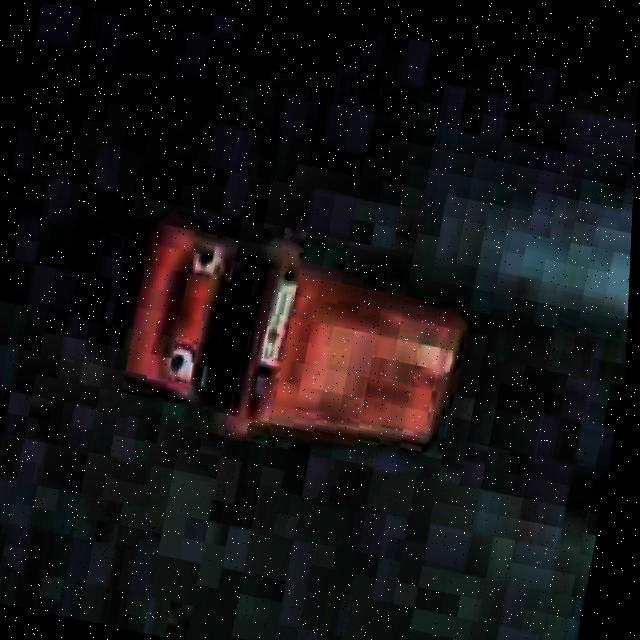bus: (90, 197, 486, 484)
